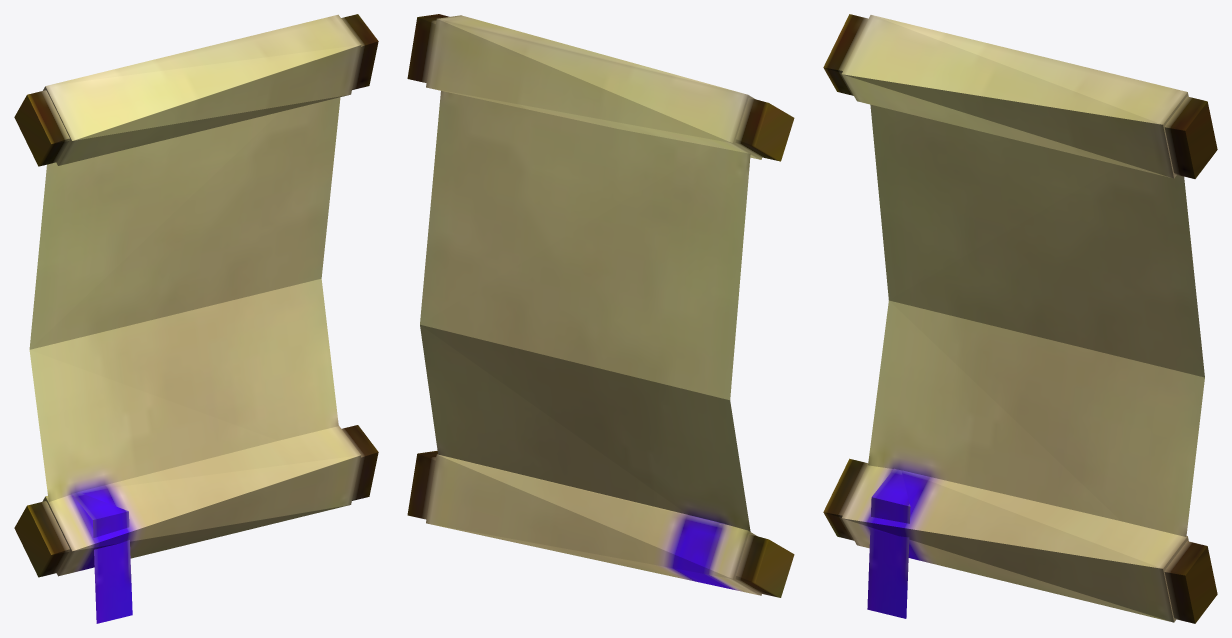
File: relic-scroll-oga.glb
The picture shows the model from 3 angles, left to right: view 1: azimuth 30°, elevation 25°; view 2: azimuth 150°, elevation 25°; view 3: azimuth 330°, elevation 25°; orthographic projection. The views are drawn at different scales.
Parts seen in each view (by area): view 1: Cylinder.002_Cylinder.003; view 2: Cylinder.002_Cylinder.003; view 3: Cylinder.002_Cylinder.003.
Boxes of the visible parts, <box> form: Cylinder.002_Cylinder.003: <box>14,14,378,623</box>; Cylinder.002_Cylinder.003: <box>407,14,794,597</box>; Cylinder.002_Cylinder.003: <box>823,14,1217,623</box>.
Size of the model in its own units: 0.7855 by 1.19 by 0.1785.
Materials: 1 (1 with a texture image).
